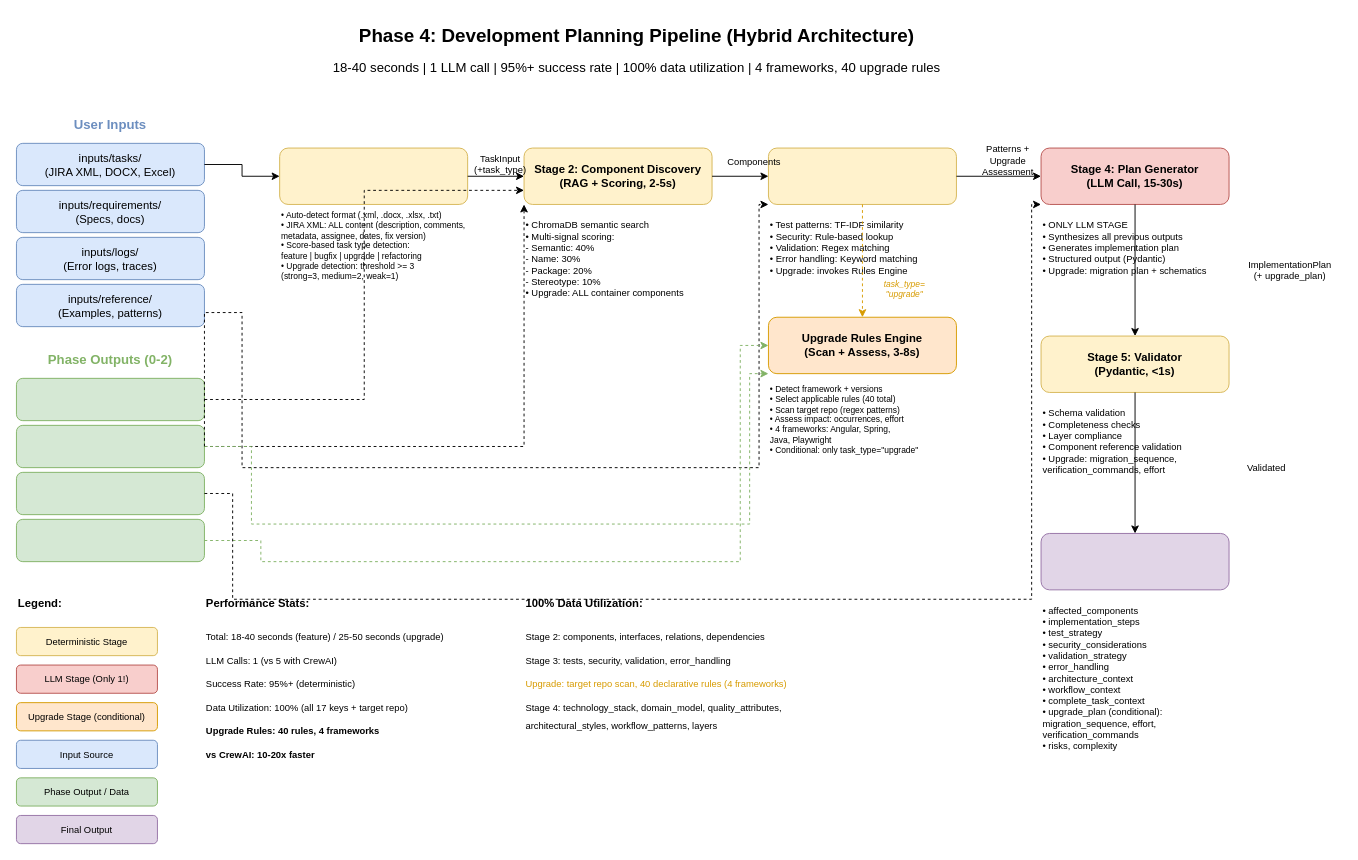
This 1358x860 diagram has some shape labels left out. The shapes that lost their labels are listed below. From the top down, each one's centre as x and y in pixels, then its label:
point 373,175: Stage 1: Input Parser (Deterministic, <1s)
point 862,175: Stage 3: Pattern Matcher (TF-IDF + Rules, 1-8s)
point 110,399: ChromaDB (Phase 0)
point 110,446: architecture_facts.json (Phase 1 - 17 keys)
point 110,493: analyzed_architecture.json (Phase 2)
point 110,540: Target Repository (source code)
point 1134,561: Output: {task_id}_plan.json
